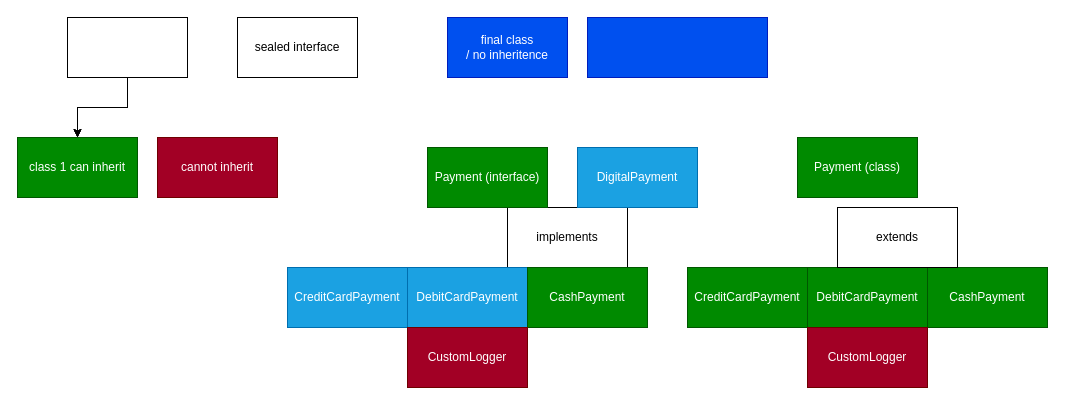
Image size: 1065x405. Some labels were removed from this diagram. The shapes that lost their labels are listed below. From the top down, each one's centre as x and y in pixels, then its label:
At (127,47): "sealed class".
At (677,47): "regular class / interface inheritance / implementation without restriction".
